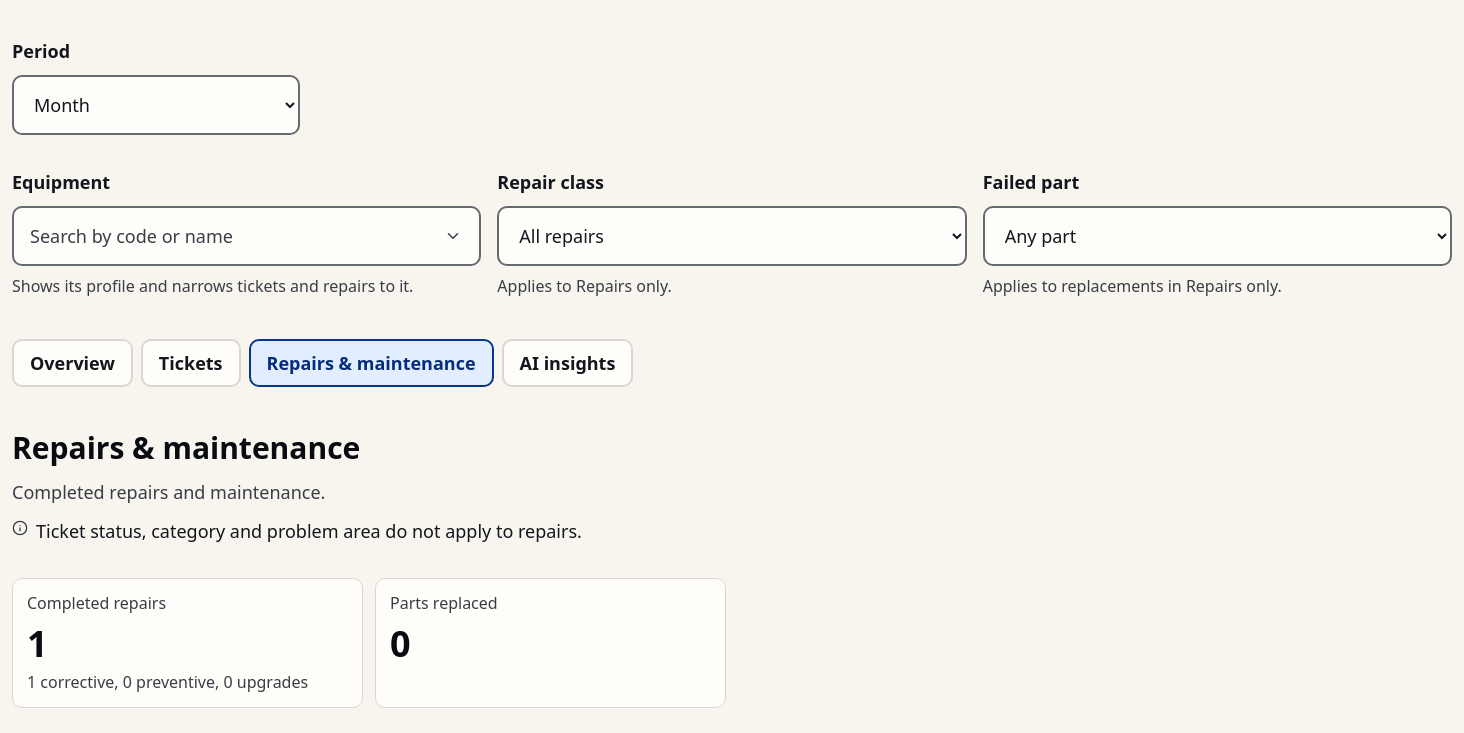
Test: OverallReportsPage › moves between sections through the URL
The width and height of the screenshot is (1464, 733).
What coordinates should you click on to do the following:
click the button "Tickets"
I would click on:
 (191, 363)
Its box is [141,339,240,387].
(page scrolled)
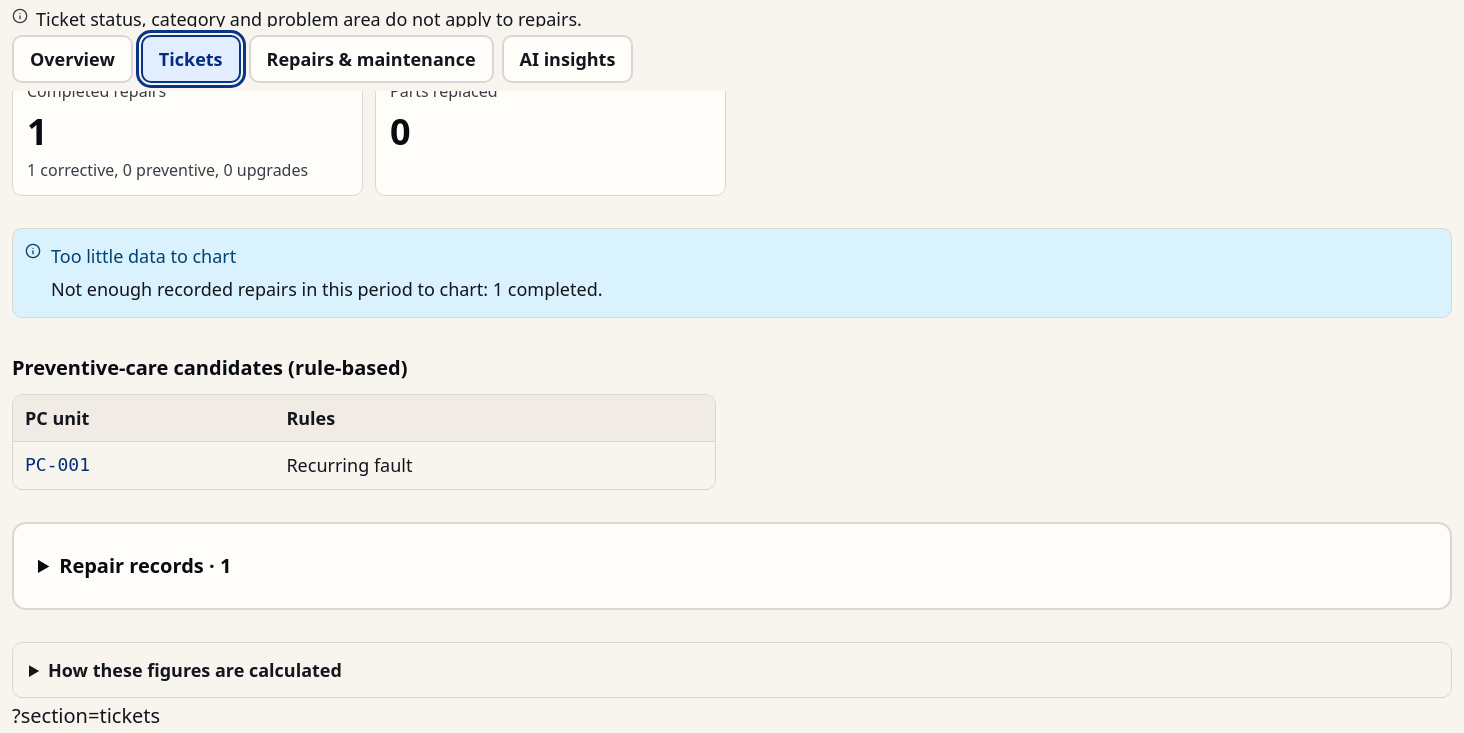
Result: the text with test id "where" shows "section=tickets" at [12,702,160,729]
